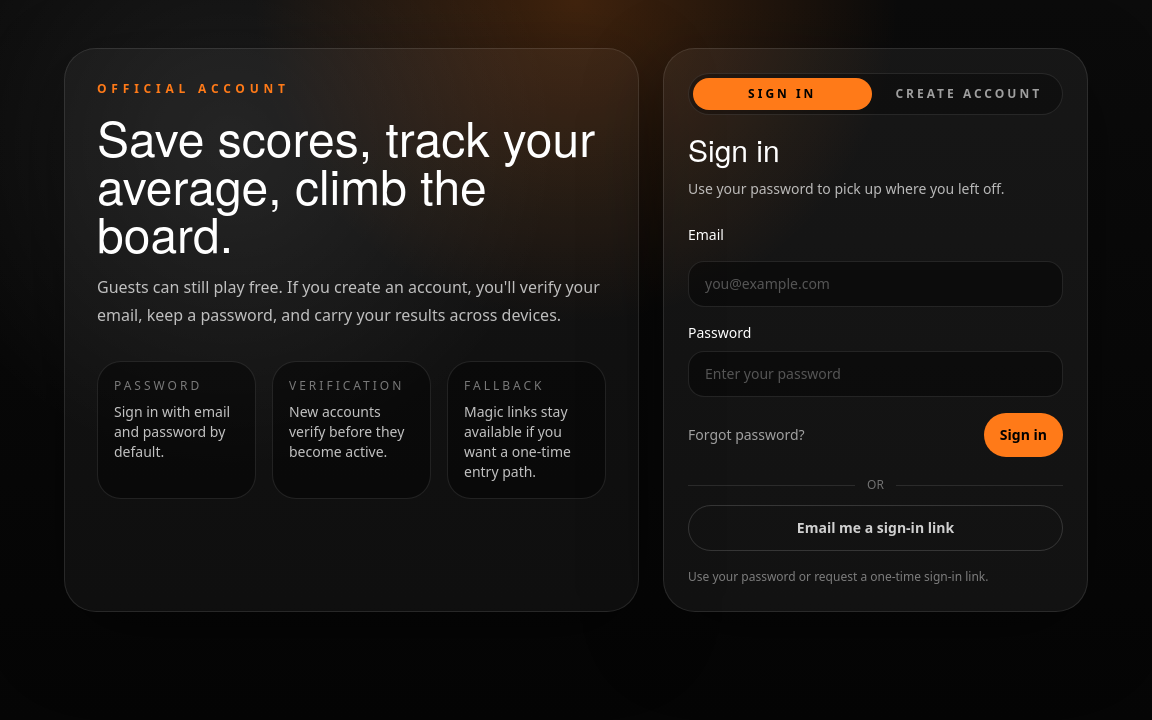
Test: LoginForm › shows inline validation and makes no request when magic-link email is missing
Click the button "Email me a sign-in link" at (876, 528), box [688,505,1063,551]
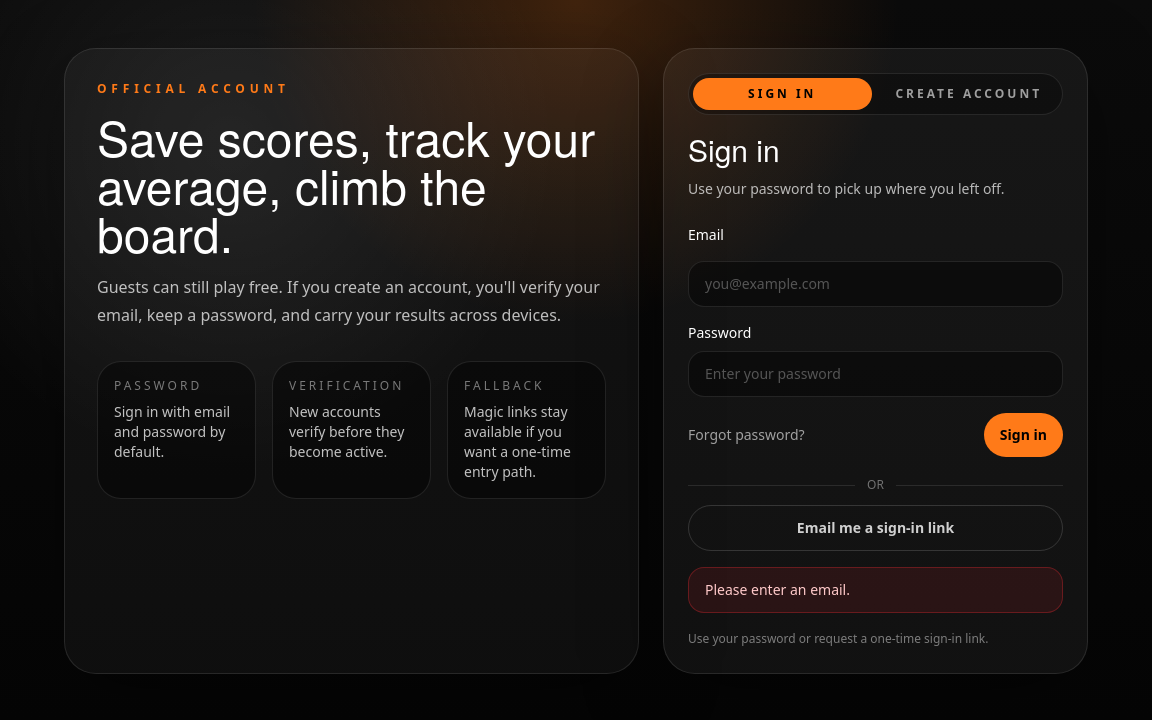
Expected: the text "Please enter an email." is shown, [688,567,1063,613]
